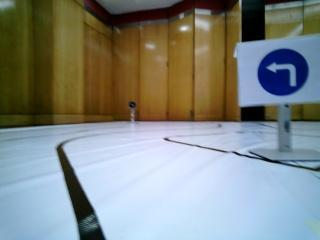left: (237, 44, 319, 100)
